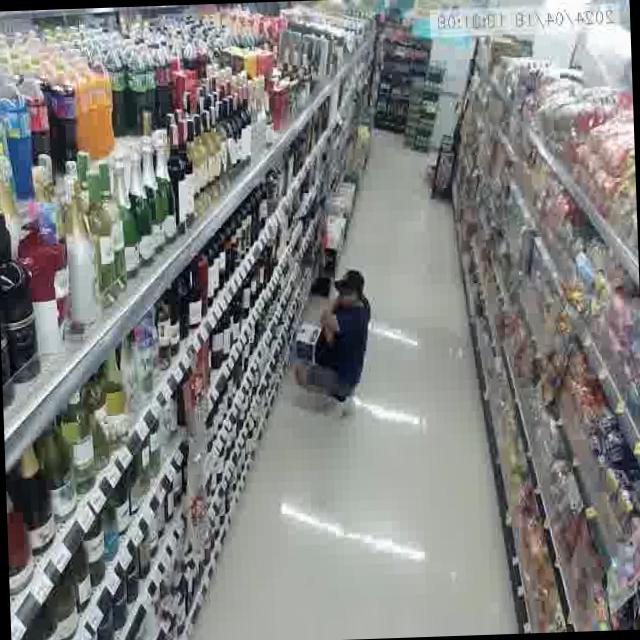shoplifting: (272, 254, 386, 426)
